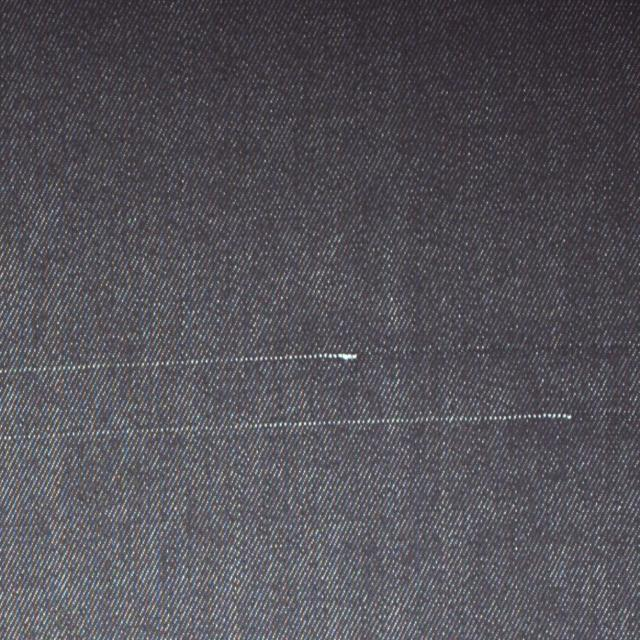Warp_Weft: (0, 406, 579, 446), (0, 346, 363, 380)
